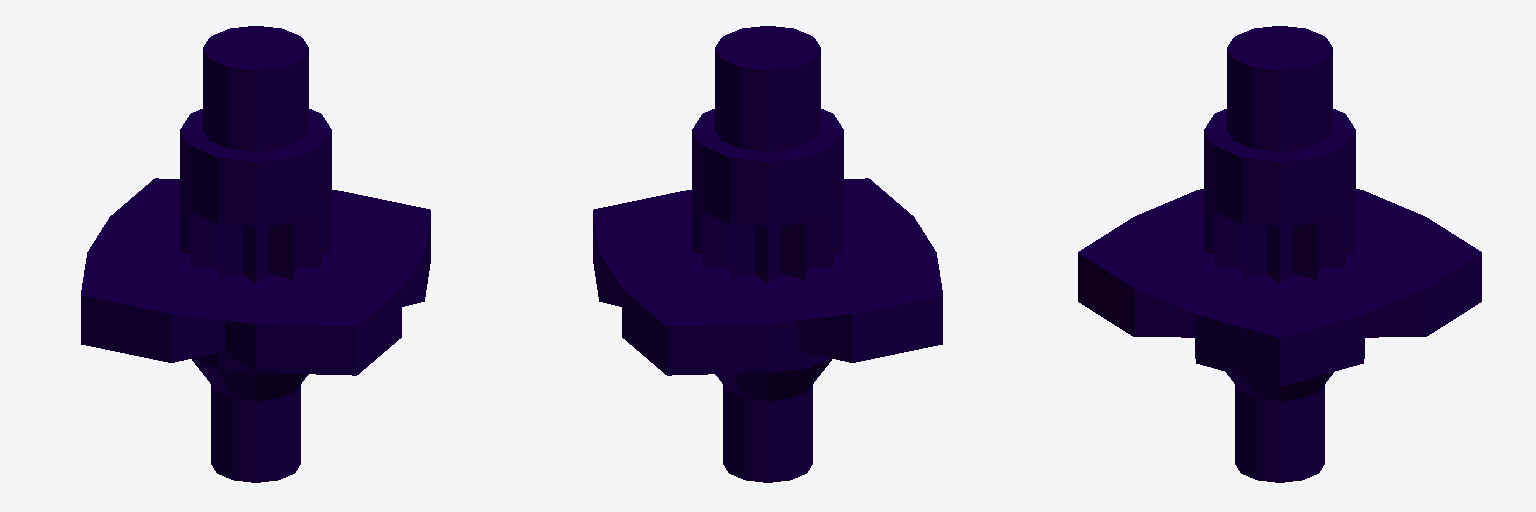
The model's file is 2Bit.obj.
3 renders of one model, left to right at view 1: azimuth 30°, elevation 25°; view 2: azimuth 150°, elevation 25°; view 3: azimuth 270°, elevation 25°, orthographic.
Parts seen in each view (by area): view 1: 2Bit; view 2: 2Bit; view 3: 2Bit.
Part boxes in pixels (x1,y1,x2,y2): 2Bit: (81, 26, 430, 482); 2Bit: (593, 26, 942, 482); 2Bit: (1078, 26, 1481, 482).
Size of the model in its own units: 2.24 by 2.54 by 2.24.